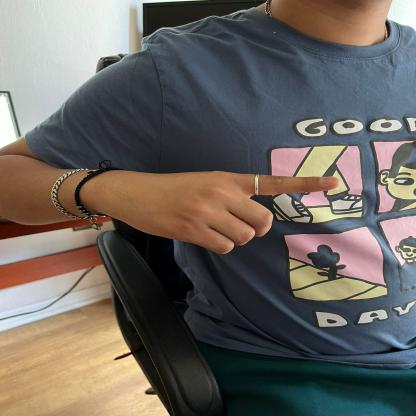S: (98, 160, 341, 258)
